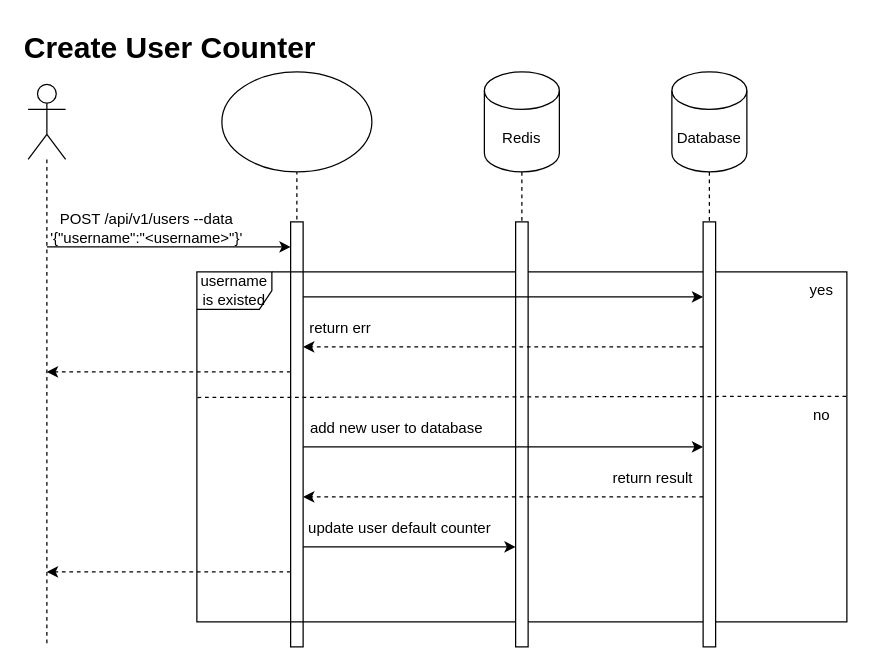
The diagram is 880 pixels wide and 670 high, and some of its shapes have lost their labels. The shapes that lost their labels are listed below. From the top down, each one's centre as x and y in pixels, then its label:
At (x=46, y=121): "User".
At (x=296, y=121): "Backend Service".
